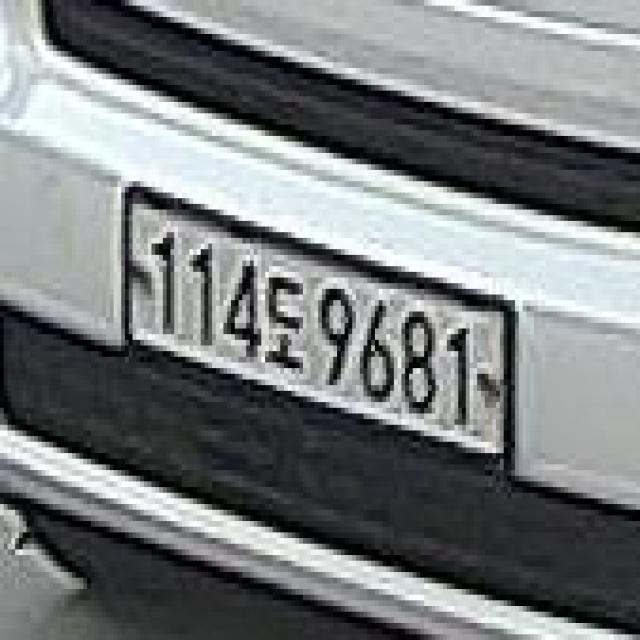illegal_plate: (119, 177, 517, 487)
